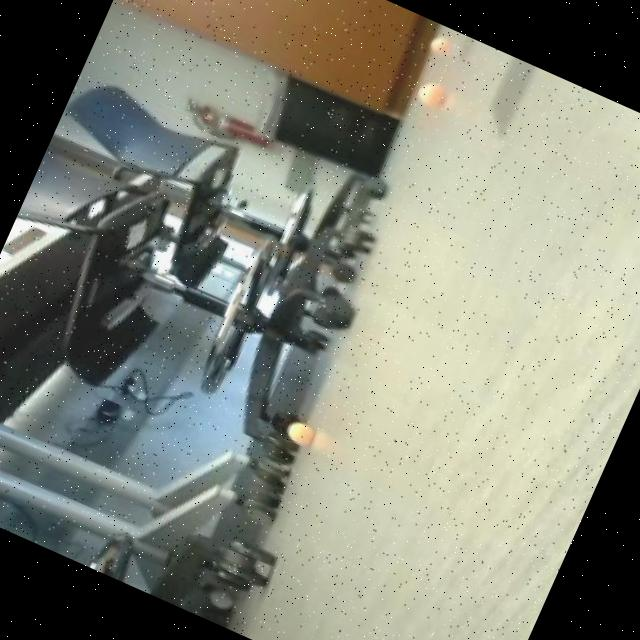ping-pong-ball: (408, 75, 454, 116), (286, 414, 326, 452), (426, 32, 454, 56)
